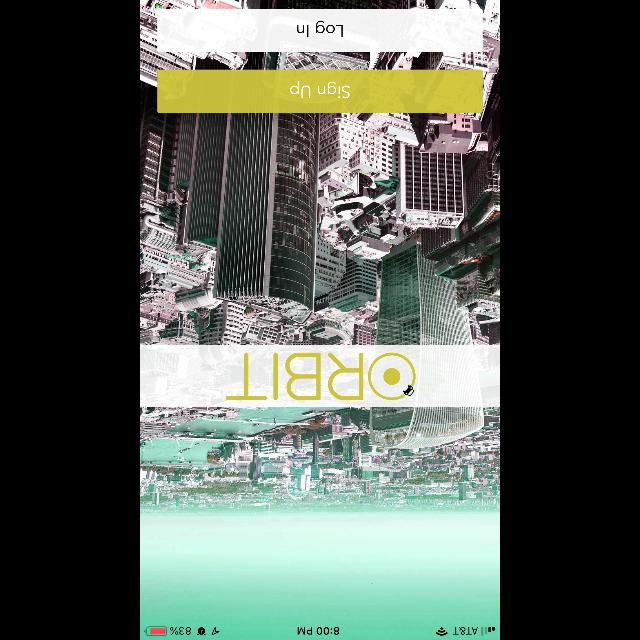backgroundimage: (140, 1, 500, 626)
image: (226, 352, 416, 400)
textbutton: (158, 70, 482, 112), (158, 10, 482, 52)
uppertaskbar: (140, 626, 500, 640)
